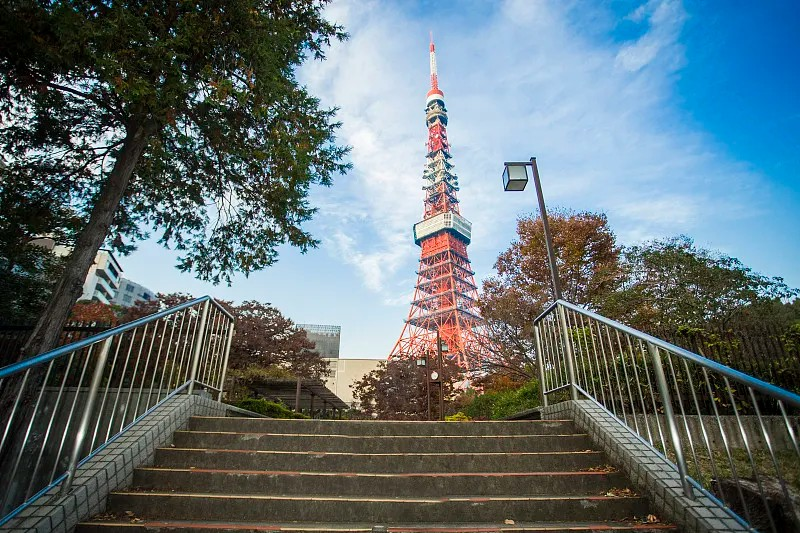Tokyo: (387, 27, 495, 361)
